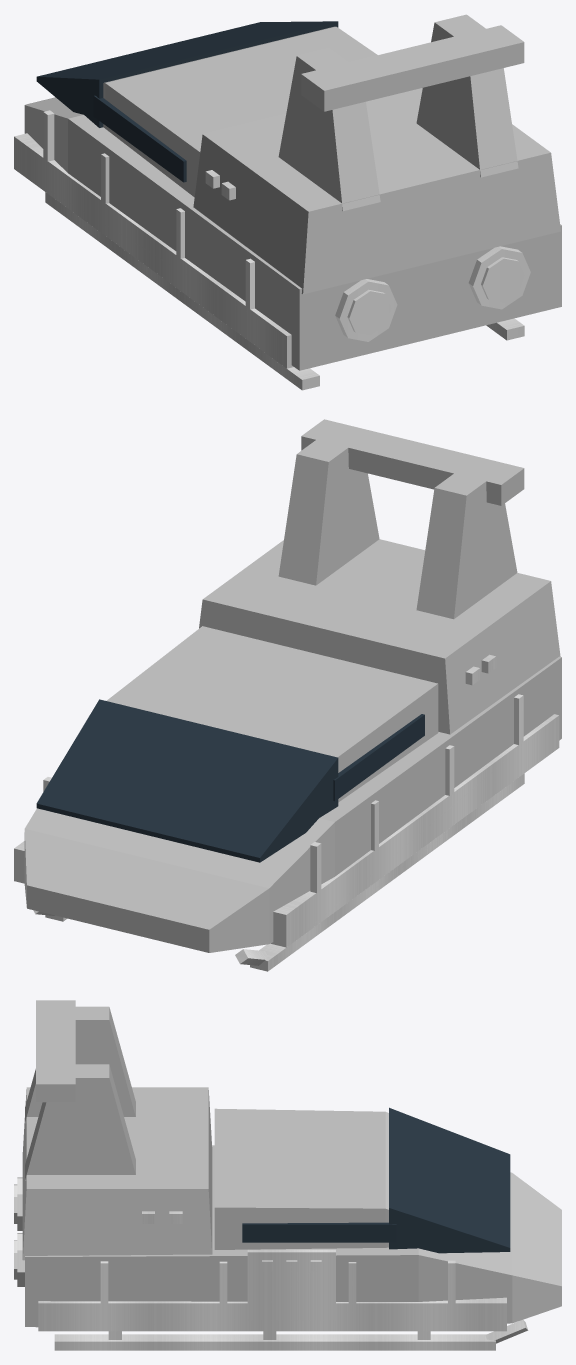
The model's file is passenger_shuttle.obj.
The picture shows the model from 3 angles, top to bottom: view 1: azimuth 30°, elevation 25°; view 2: azimuth 150°, elevation 25°; view 3: azimuth 270°, elevation 25°; orthographic projection. The views are drawn at different scales.
Parts seen in each view (by area): view 1: passenger_shuttle; view 2: passenger_shuttle; view 3: passenger_shuttle.
Boxes of the visible parts, x1,y1,x2,y2 form: passenger_shuttle: [14, 14, 561, 390]; passenger_shuttle: [14, 419, 561, 971]; passenger_shuttle: [14, 1000, 561, 1350].
Bounding box in the file's own units: 2.51 × 2.62 × 4.97.
